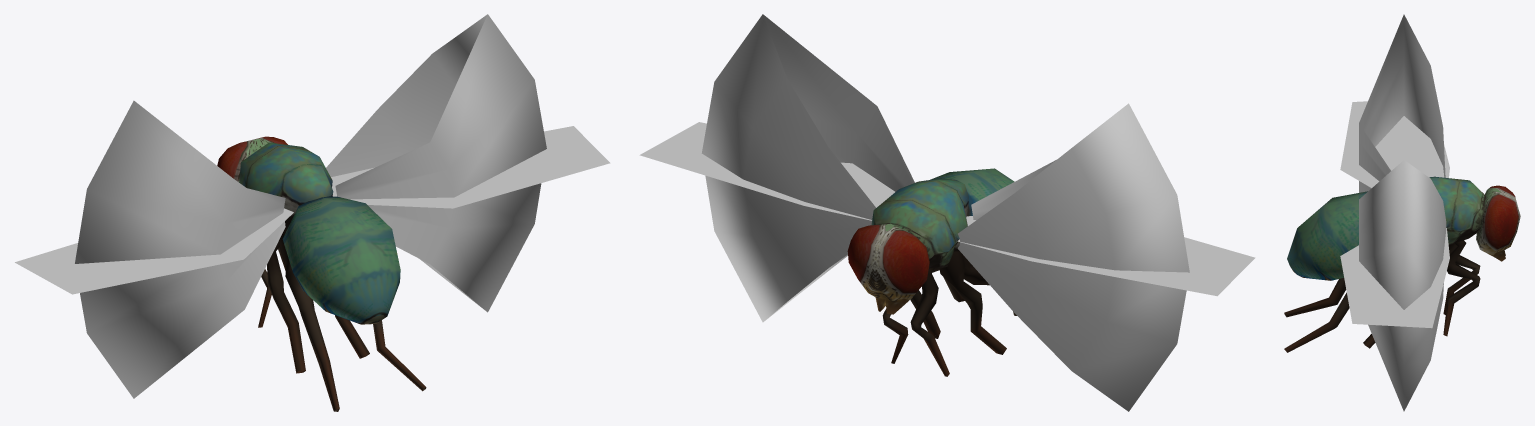
File: Fly_model.fbx
3 renders of one model, left to right at view 1: azimuth 30°, elevation 25°; view 2: azimuth 150°, elevation 25°; view 3: azimuth 270°, elevation 25°, orthographic. The views are drawn at different scales.
Visible parts, largest first — view 1: WingR_MB, WingL_MB, Ass, WingL, WingR, Body, LegL3, LegL2, Head, LegR3, LegR2; view 2: WingL_MB, WingR_MB, Body, Head, WingL, WingR, LegL2, Ass, LegL1; view 3: WingR_MB, WingL_MB, Ass, WingR, WingL, Body, Head, LegR1, LegR3, LegL3, LegL1.
Part boxes in pixels (x1=…): WingR_MB: x1=326, y1=14, x2=546, y2=312; WingL_MB: x1=75, y1=100, x2=285, y2=398; Ass: x1=282, y1=196, x2=400, y2=324; WingL: x1=15, y1=208, x2=293, y2=294; WingR: x1=331, y1=126, x2=610, y2=208; Body: x1=239, y1=142, x2=333, y2=231; LegL3: x1=279, y1=228, x2=339, y2=411; LegL2: x1=267, y1=239, x2=305, y2=373; Head: x1=217, y1=136, x2=287, y2=182; LegR3: x1=373, y1=320, x2=426, y2=391; LegR2: x1=335, y1=315, x2=369, y2=358; WingL_MB: x1=957, y1=103, x2=1189, y2=411; WingR_MB: x1=701, y1=14, x2=914, y2=322; Body: x1=871, y1=178, x2=968, y2=269; Head: x1=847, y1=223, x2=929, y2=314; WingL: x1=957, y1=216, x2=1255, y2=296; WingR: x1=639, y1=122, x2=894, y2=220; LegL2: x1=939, y1=251, x2=1006, y2=354; Ass: x1=930, y1=168, x2=1014, y2=262; LegL1: x1=910, y1=268, x2=949, y2=376; WingR_MB: x1=1359, y1=160, x2=1446, y2=411; WingL_MB: x1=1359, y1=14, x2=1445, y2=192; Ass: x1=1287, y1=191, x2=1367, y2=280; WingR: x1=1340, y1=228, x2=1449, y2=328; WingL: x1=1340, y1=101, x2=1449, y2=187; Body: x1=1429, y1=176, x2=1486, y2=244; Head: x1=1476, y1=185, x2=1520, y2=261; LegR1: x1=1443, y1=240, x2=1480, y2=336; LegR3: x1=1284, y1=292, x2=1349, y2=352; LegL3: x1=1284, y1=278, x2=1346, y2=317; LegL1: x1=1443, y1=243, x2=1480, y2=314.
Size of the model in its own units: 2.45 by 1.06 by 1.25.
